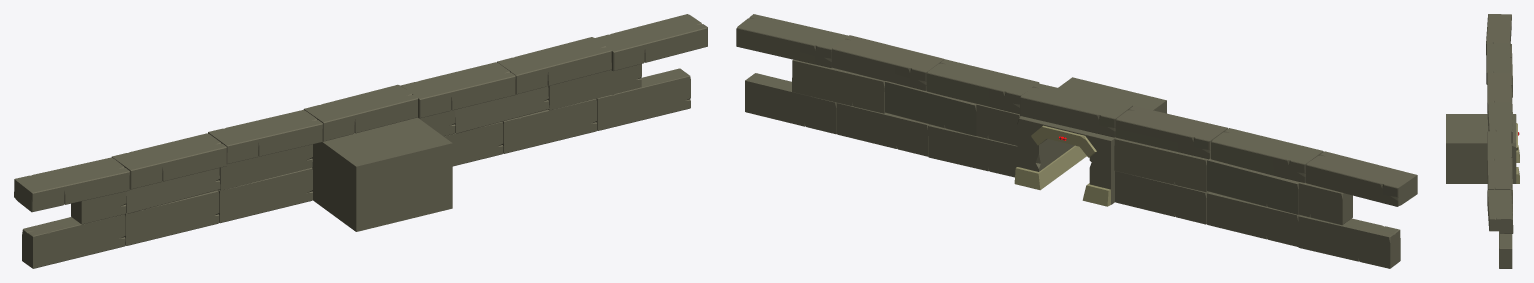
File: Wall_and_gate_1.fbx
The picture shows the model from 3 angles, left to right: view 1: azimuth 30°, elevation 25°; view 2: azimuth 150°, elevation 25°; view 3: azimuth 270°, elevation 25°; orthographic projection. The views are drawn at different scales.
Visible parts, largest first — view 1: Wall_and_gate_1; view 2: Wall_and_gate_1; view 3: Wall_and_gate_1.
Part boxes in pixels (x1,y1,x2,y2): Wall_and_gate_1: (14, 14, 707, 268); Wall_and_gate_1: (736, 14, 1417, 268); Wall_and_gate_1: (1446, 14, 1519, 268).
Size of the model in its own units: 7519 by 919 by 1144.
